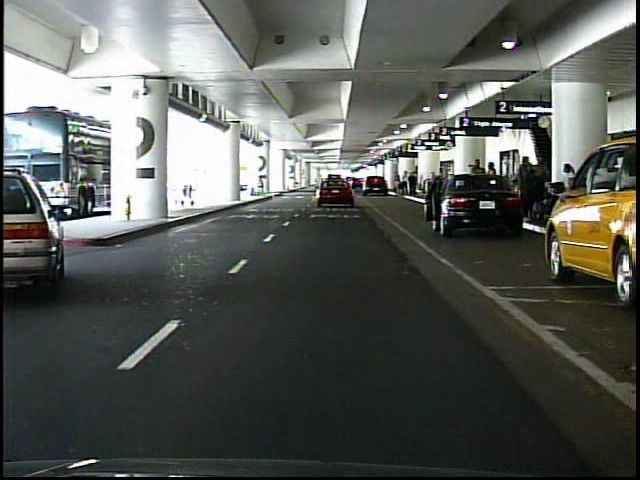person: (529, 152, 551, 220), (516, 157, 538, 222), (470, 156, 488, 211), (486, 160, 502, 210), (402, 169, 411, 197), (411, 173, 419, 198), (395, 175, 403, 194)
